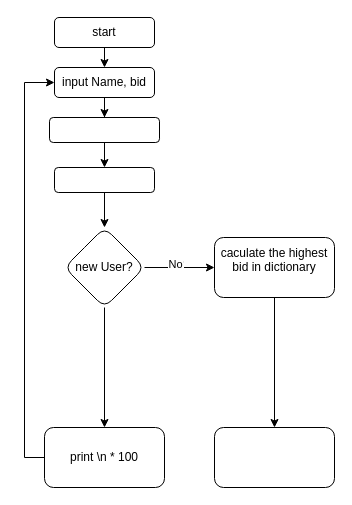
The diagram is 352 pixels wide and 505 high, and some of its shapes have lost their labels. Here are the shapes that lost their labels. From the top down, the centre of each, then its label:
At (x=104, y=129): "bid price".
At (x=104, y=179): "store in dictionary".
At (x=274, y=457): "print the highest bid and the key".
